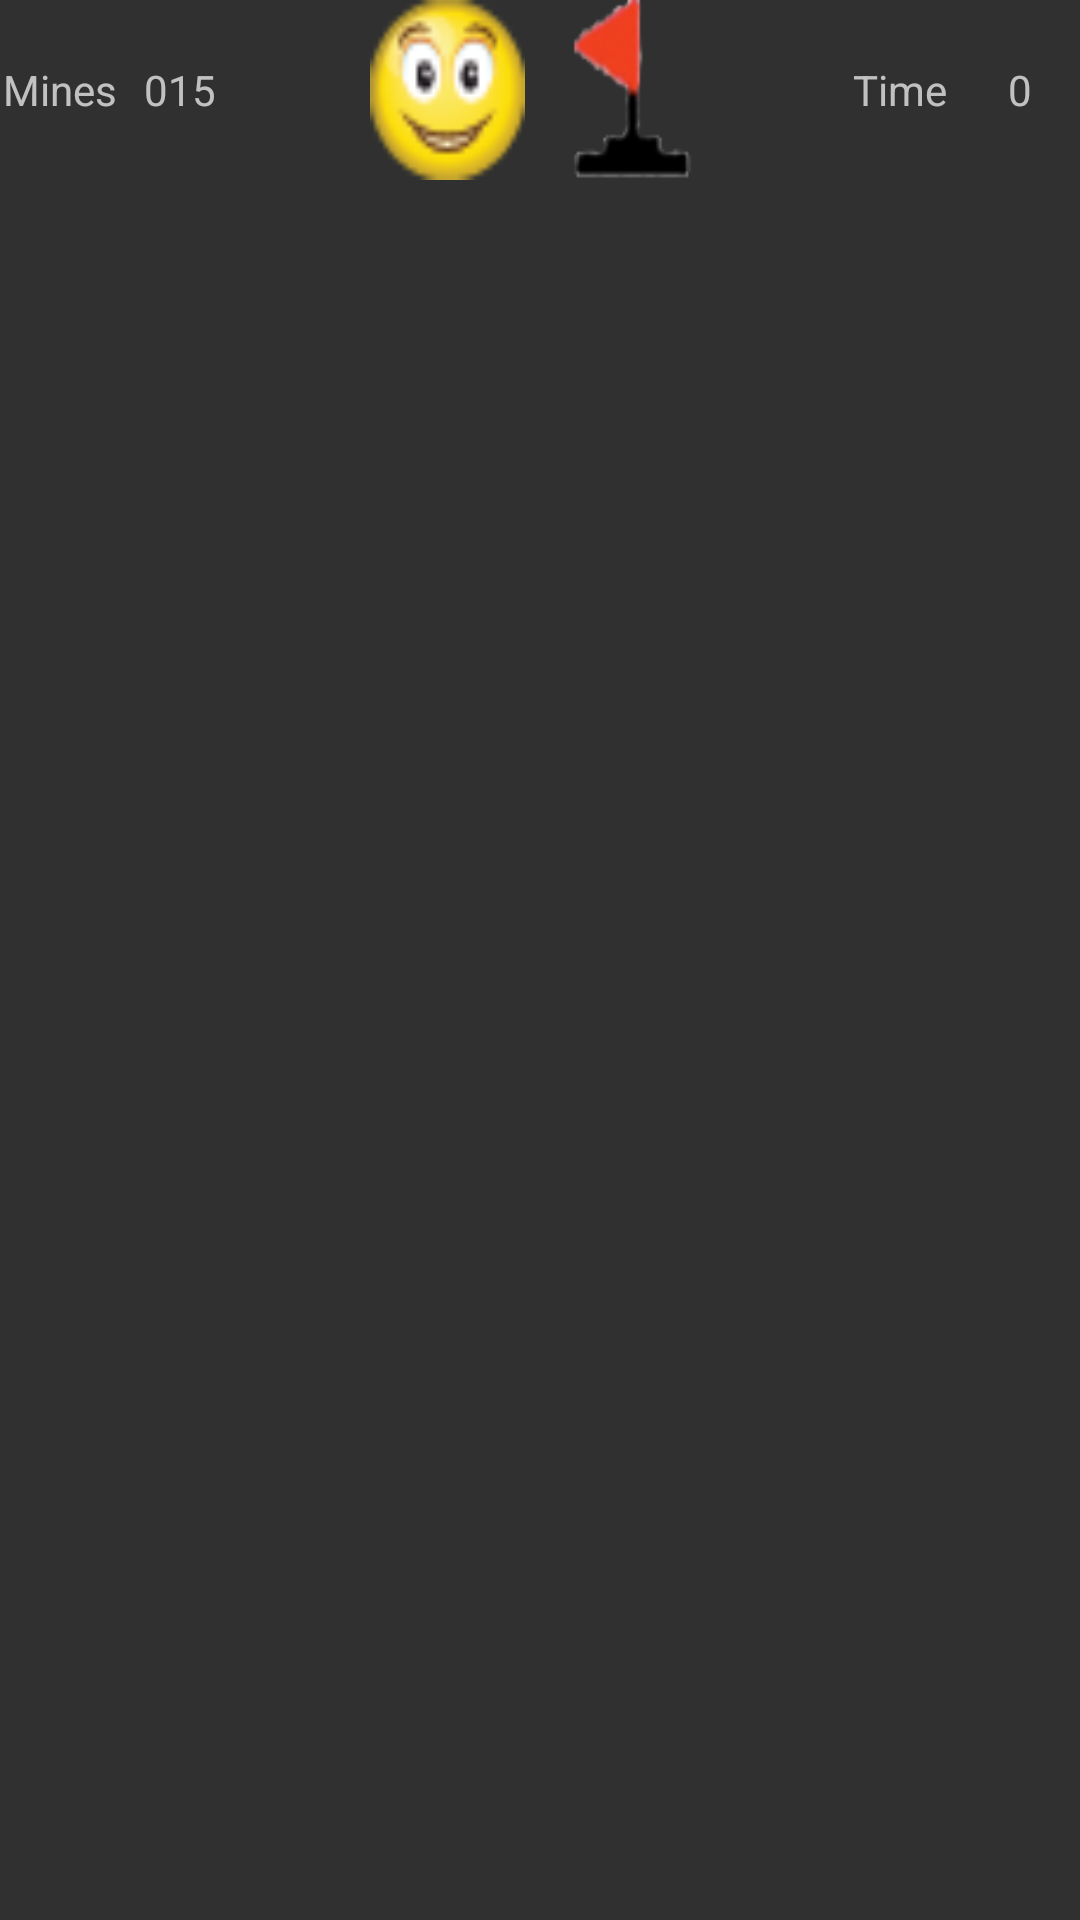

Icons on this 1080×1920 Android screen, each with the point to tap as point (x, y):
flag: point (631, 89)
smile: point (447, 90)
